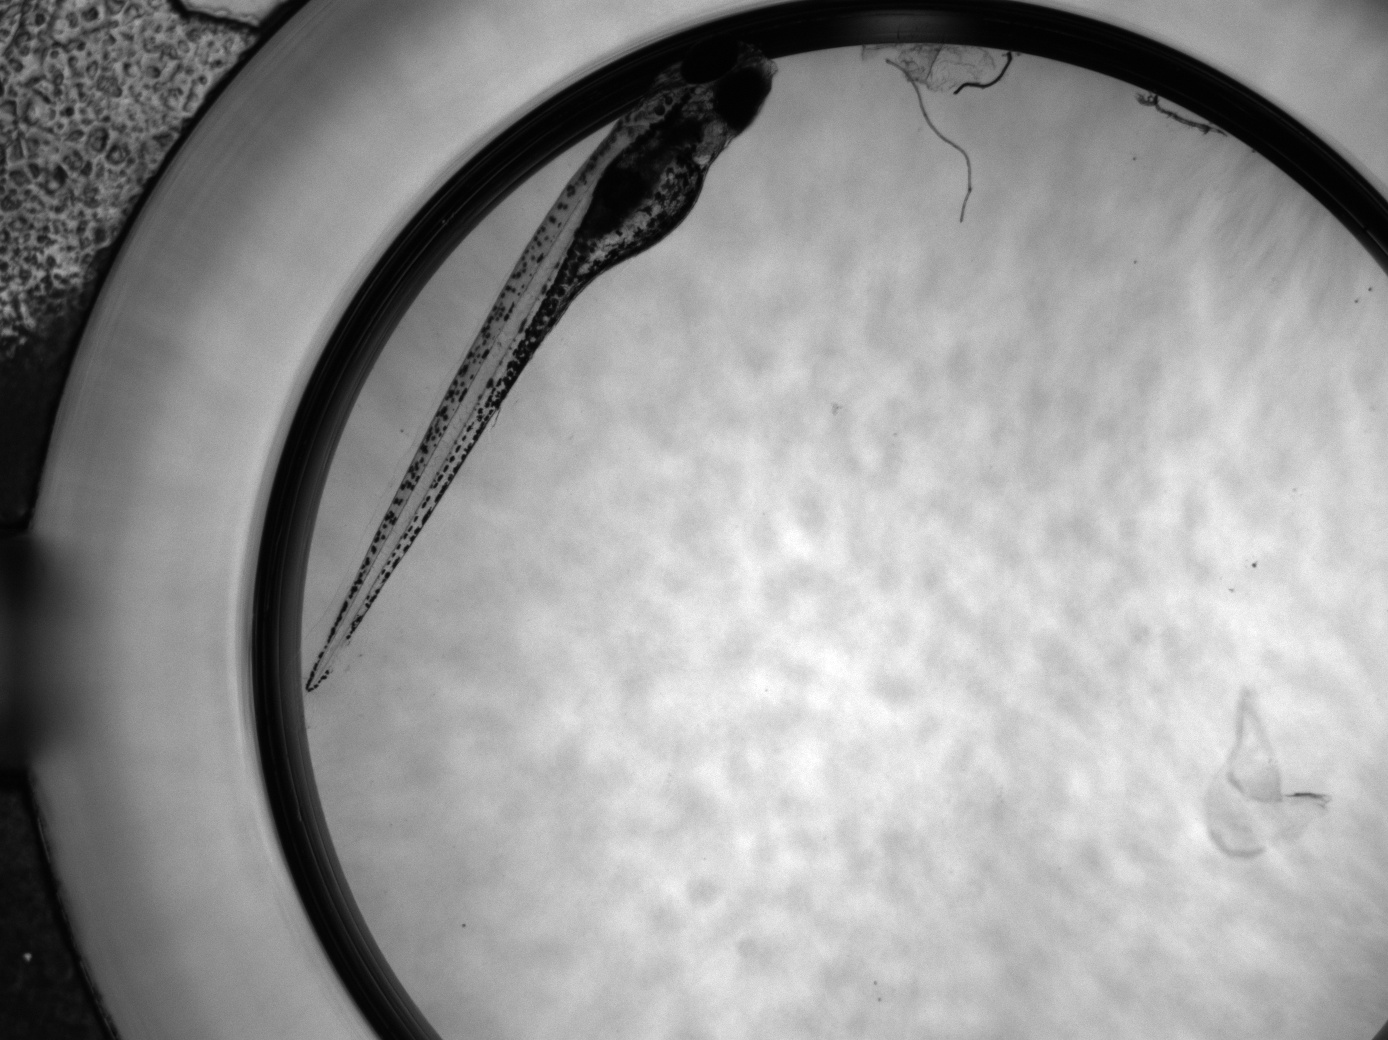embryo: (306, 37, 778, 692)
yolksac: (568, 137, 704, 270)
